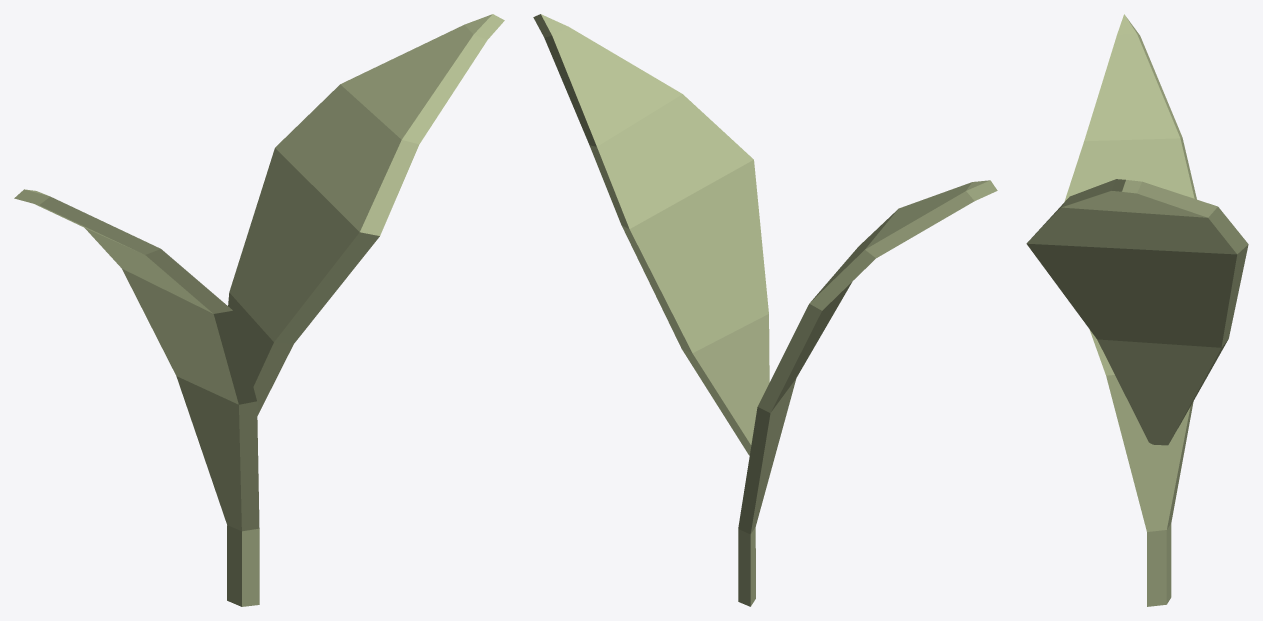
The model's file is lettuce_1.glb.
The picture shows the model from 3 angles, left to right: view 1: azimuth 30°, elevation 25°; view 2: azimuth 150°, elevation 25°; view 3: azimuth 270°, elevation 25°; orthographic projection. The views are drawn at different scales.
Visible parts, largest first — view 1: Lettuce_1; view 2: Lettuce_1; view 3: Lettuce_1.
Boxes of the visible parts, bbox=[...] form: Lettuce_1: bbox=[14, 14, 504, 606]; Lettuce_1: bbox=[533, 14, 997, 606]; Lettuce_1: bbox=[1026, 14, 1248, 606].
Bounding box in the file's own units: 0.2762 × 0.2941 × 0.111.
